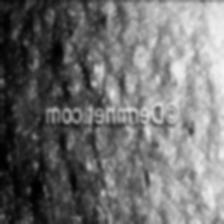Non-Cancerous Skin Condition: (0, 129, 210, 224), (25, 0, 224, 96)
